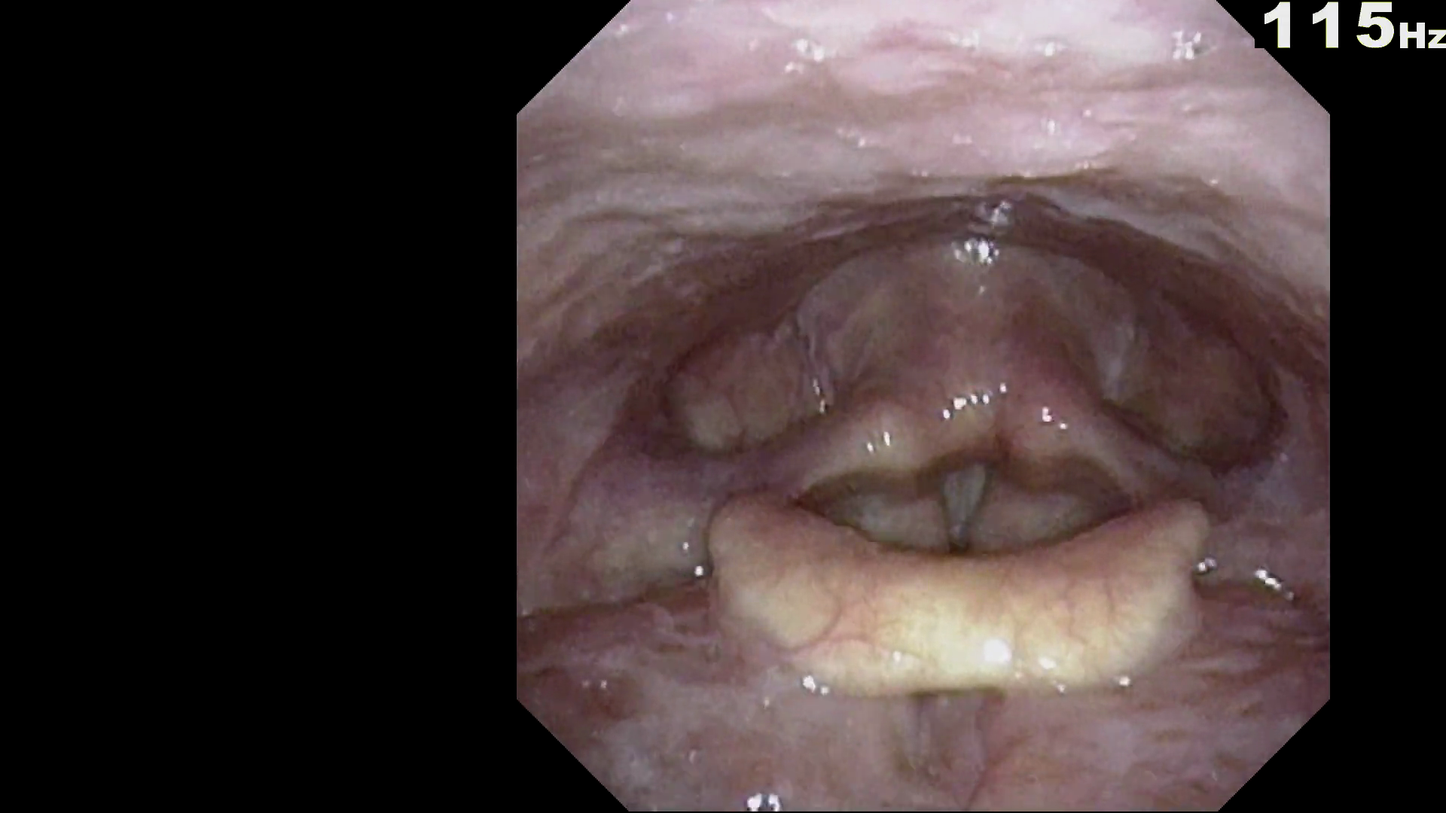epiglottis: (681, 501, 1268, 700)
trachea: (918, 448, 1027, 570)
